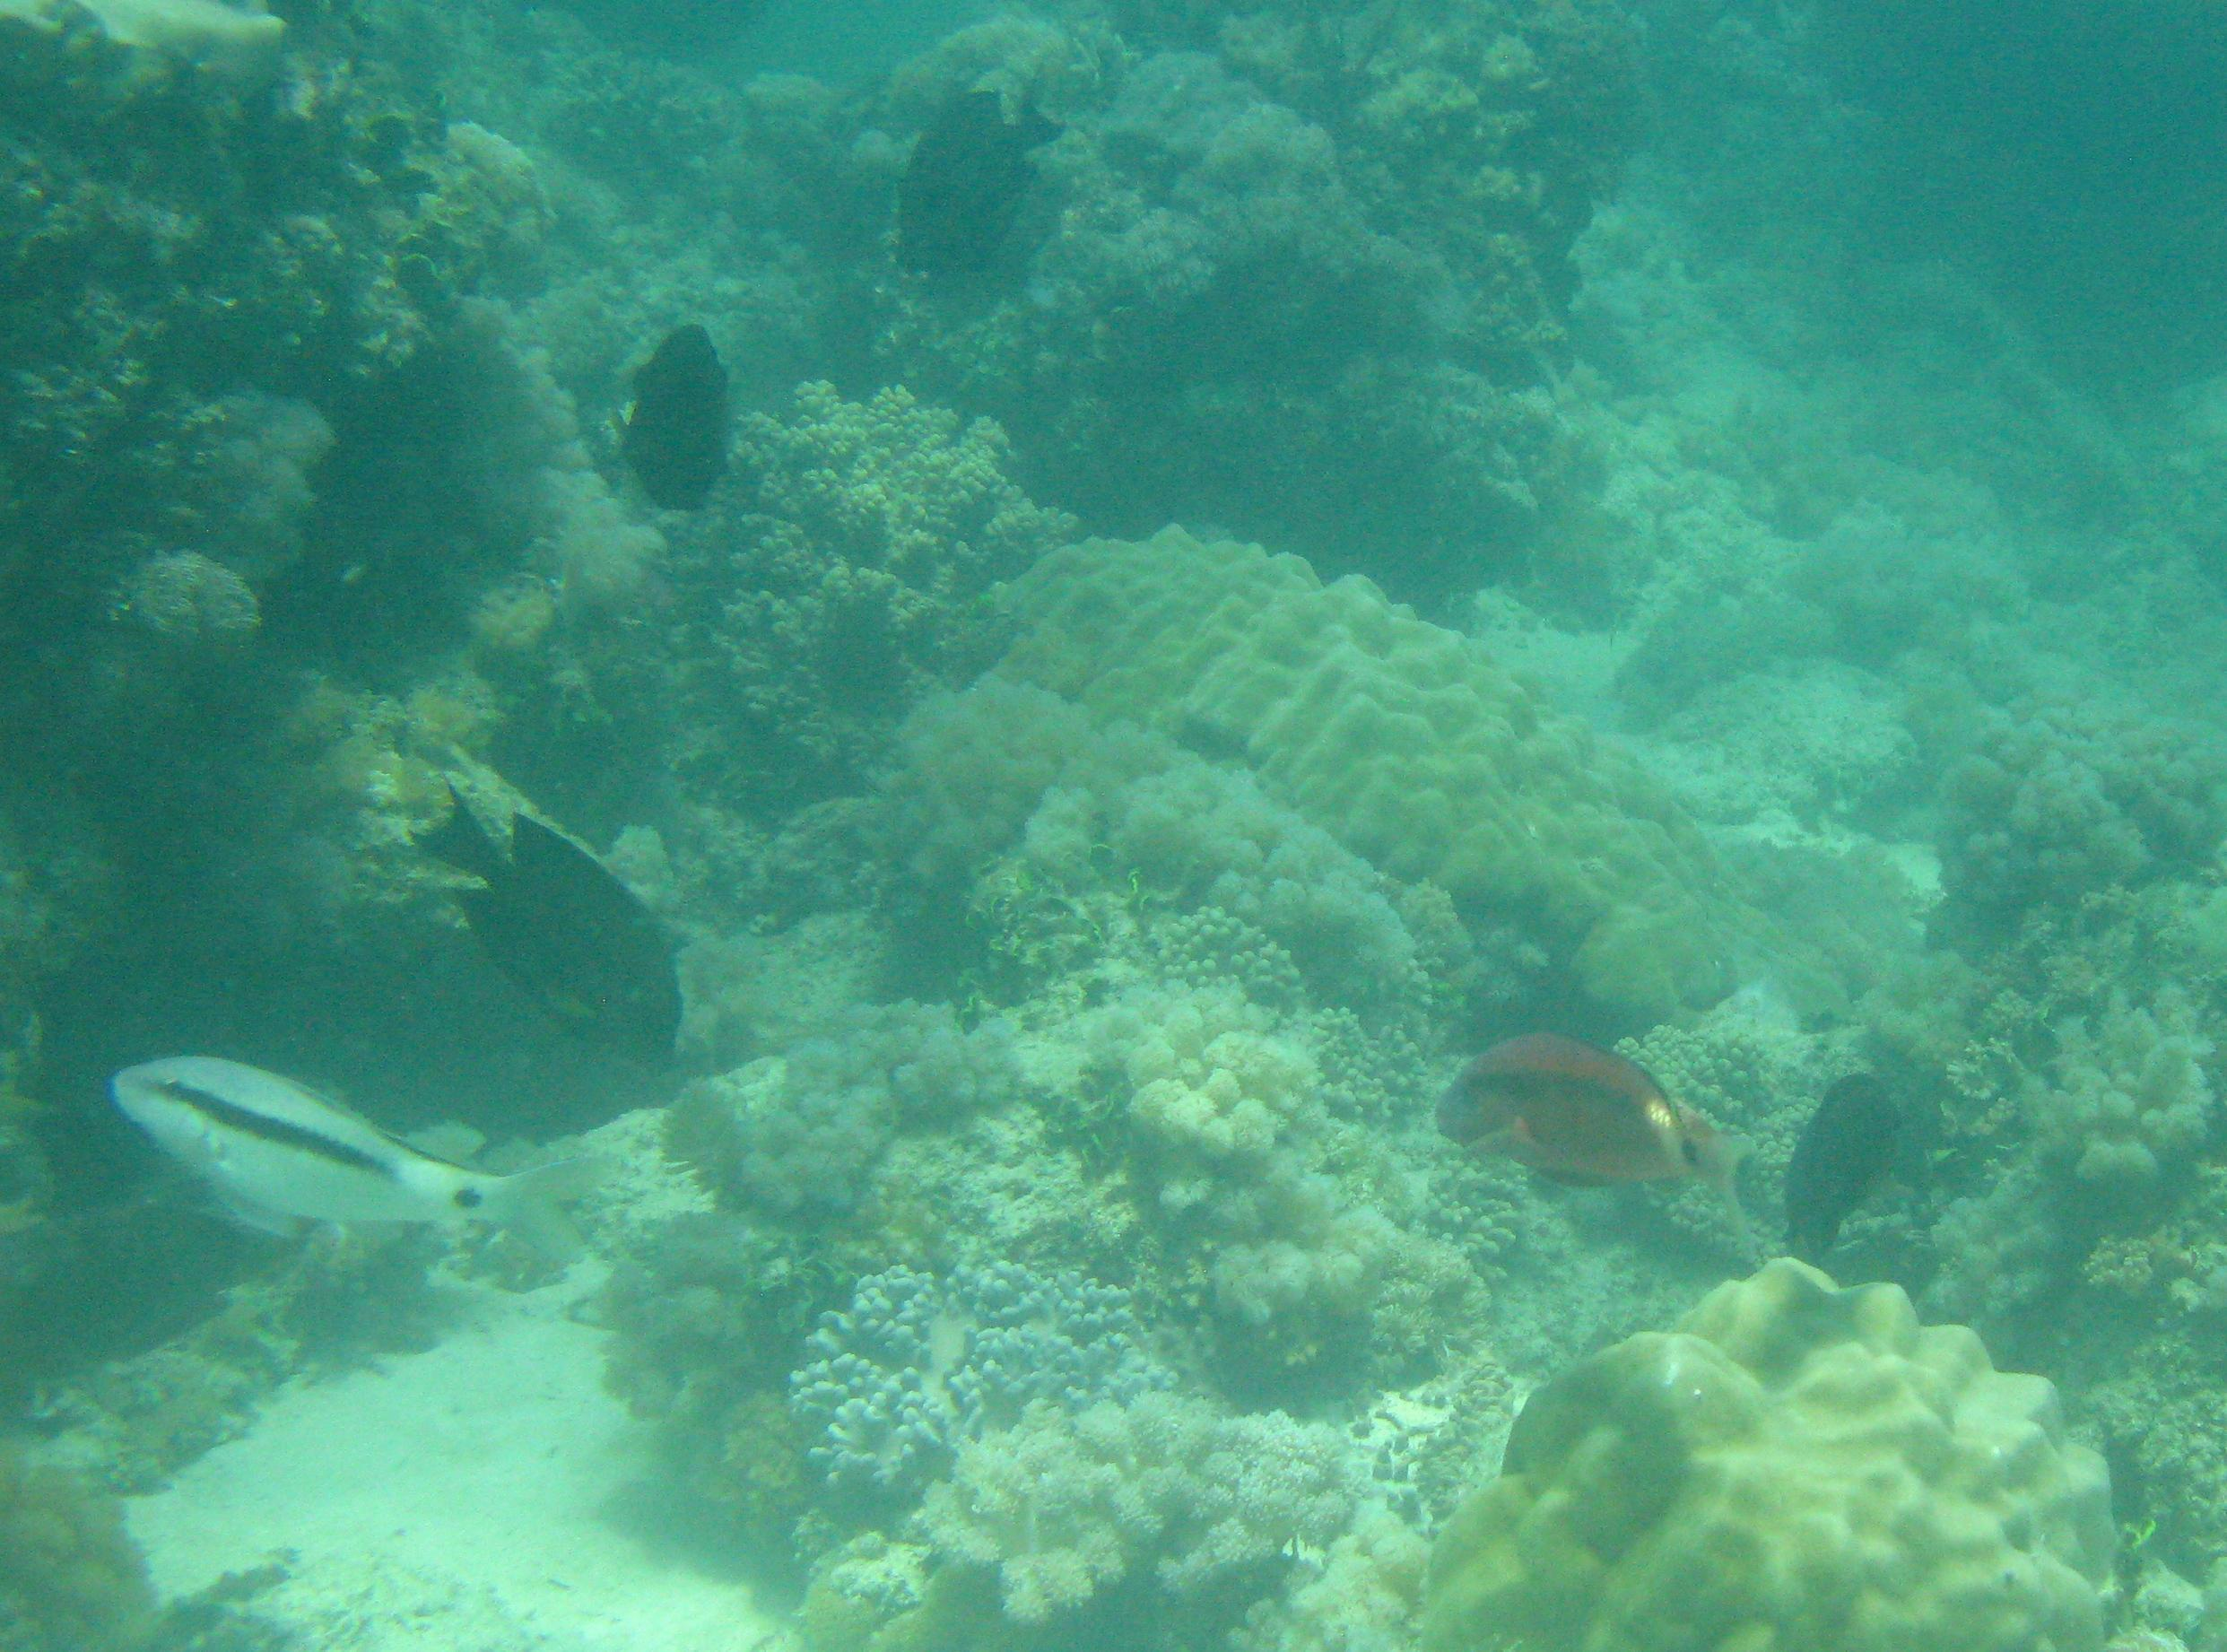Fish: (45, 1015, 555, 1395)
